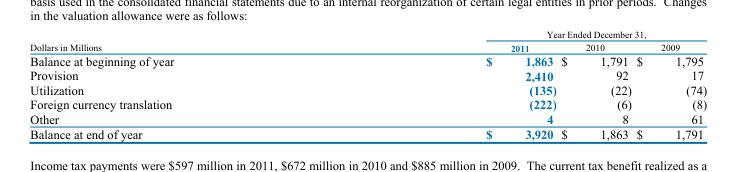table: (29, 28, 706, 140)
table column: (29, 28, 329, 140), (329, 28, 558, 140), (558, 28, 633, 140), (633, 28, 706, 140)
table column header: (29, 28, 706, 53)
table row: (29, 53, 706, 68), (29, 96, 706, 111), (29, 111, 706, 126), (29, 68, 706, 82), (29, 82, 706, 96), (29, 126, 706, 140), (29, 40, 706, 53), (29, 28, 706, 40)
table spanning cell: (29, 28, 329, 53), (329, 28, 706, 40)
